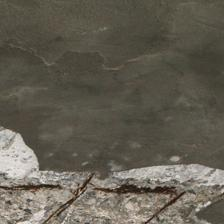Crack: (5, 20, 162, 59)
